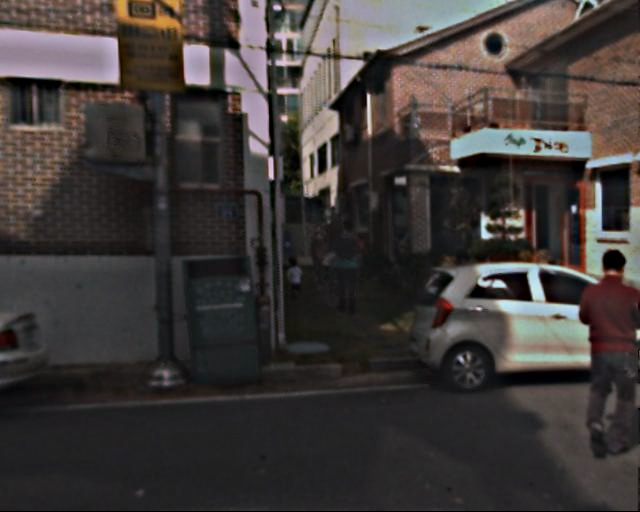person: (555, 250, 640, 457), (327, 220, 368, 318), (305, 223, 333, 289), (284, 256, 303, 303)
